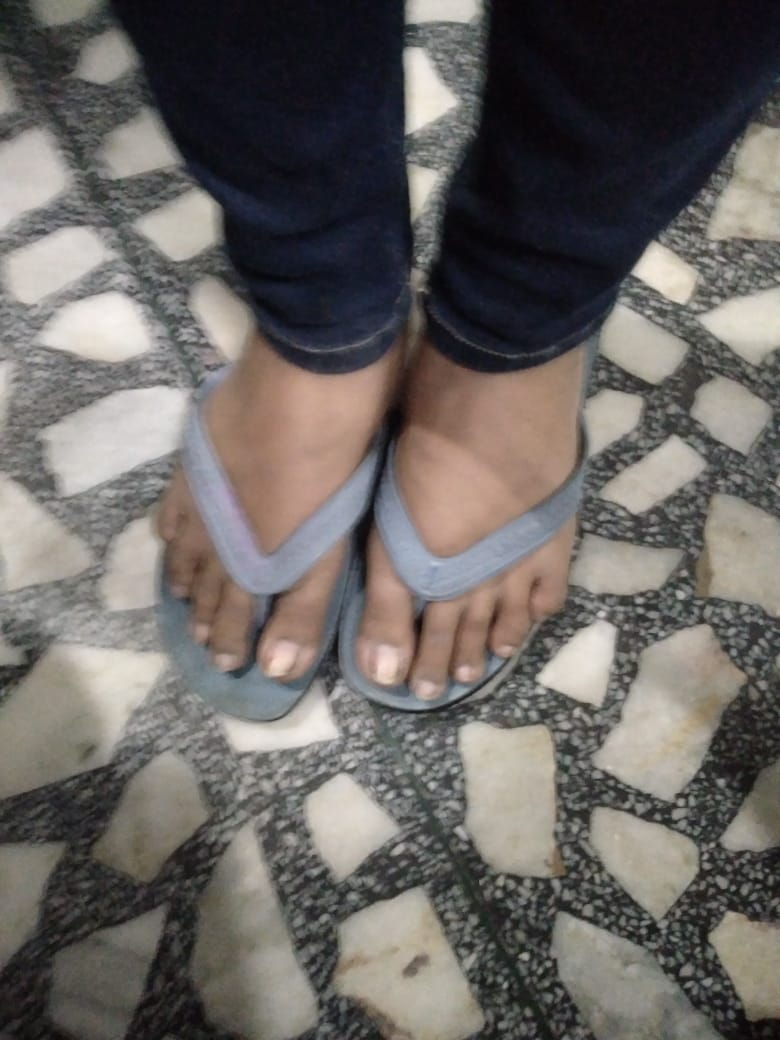Footwear: (133, 353, 595, 729)
